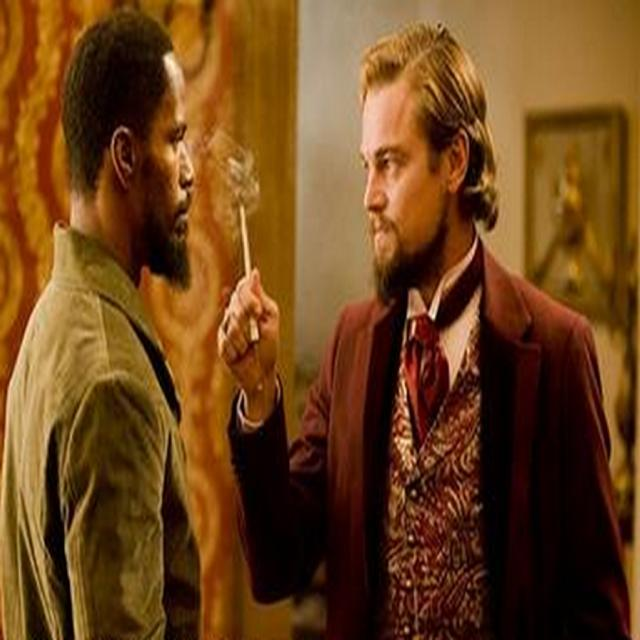smoking: (223, 25, 484, 394)
